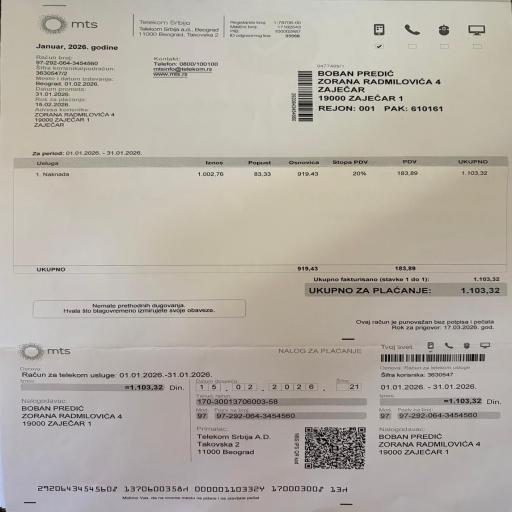mts: (26, 156, 496, 184)
mts_iznos: (304, 284, 508, 298)
mts_uplatnica: (376, 381, 504, 425)
